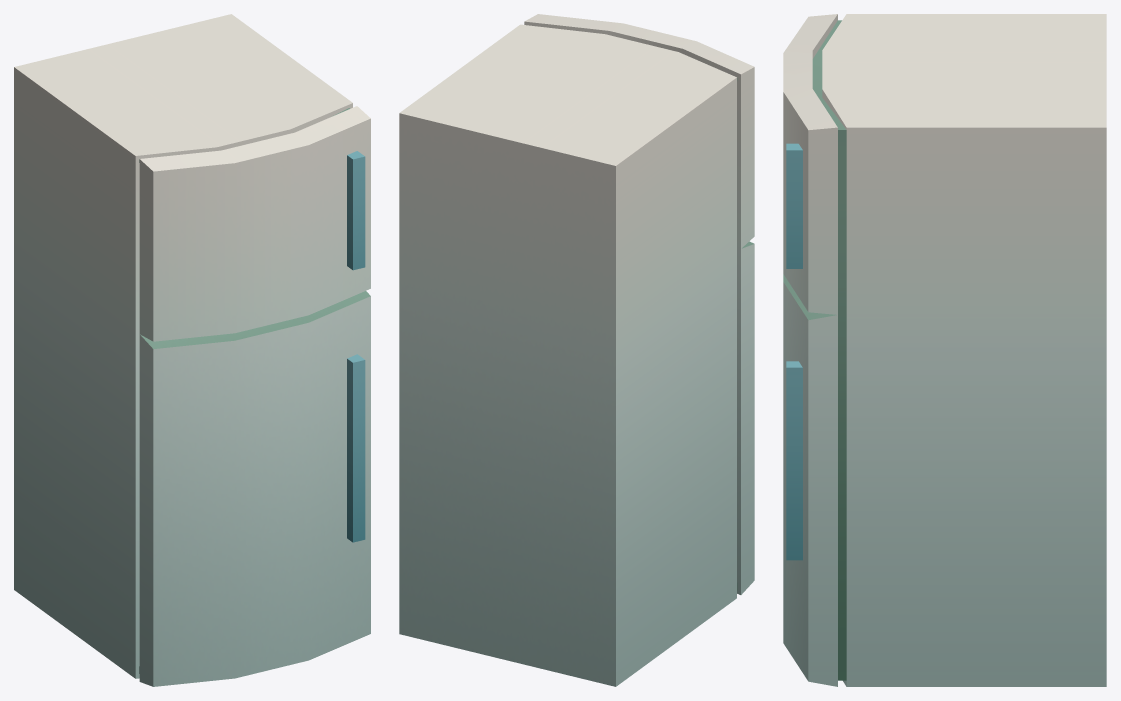
Rendered from Prop_Refridgerator.fbx.
The picture shows the model from 3 angles, left to right: view 1: azimuth 30°, elevation 25°; view 2: azimuth 150°, elevation 25°; view 3: azimuth 270°, elevation 25°; orthographic projection. The views are drawn at different scales.
Parts seen in each view (by area): view 1: Prop_Refridgerator; view 2: Prop_Refridgerator; view 3: Prop_Refridgerator.
Part boxes in pixels (x1,y1,x2,y2): Prop_Refridgerator: (14,14,370,686); Prop_Refridgerator: (399,14,754,686); Prop_Refridgerator: (783,14,1106,686).
Size of the model in its own units: 200 by 459 by 241.
